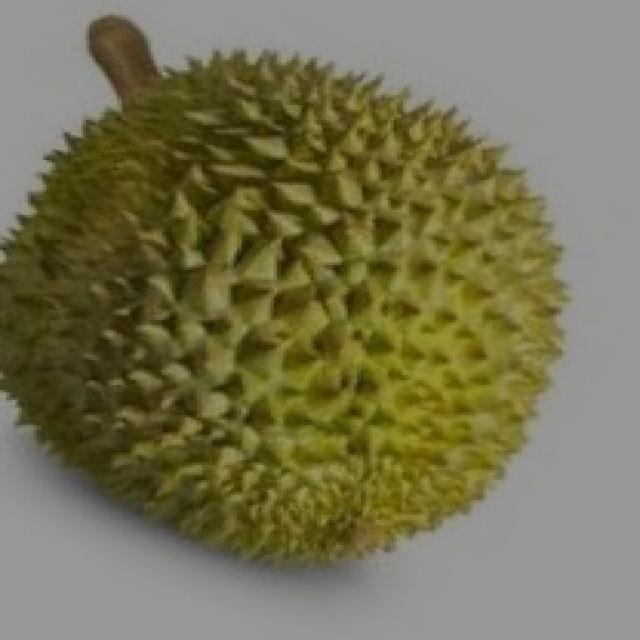fruit: (209, 240, 625, 622), (0, 232, 375, 619), (3, 5, 348, 410)
